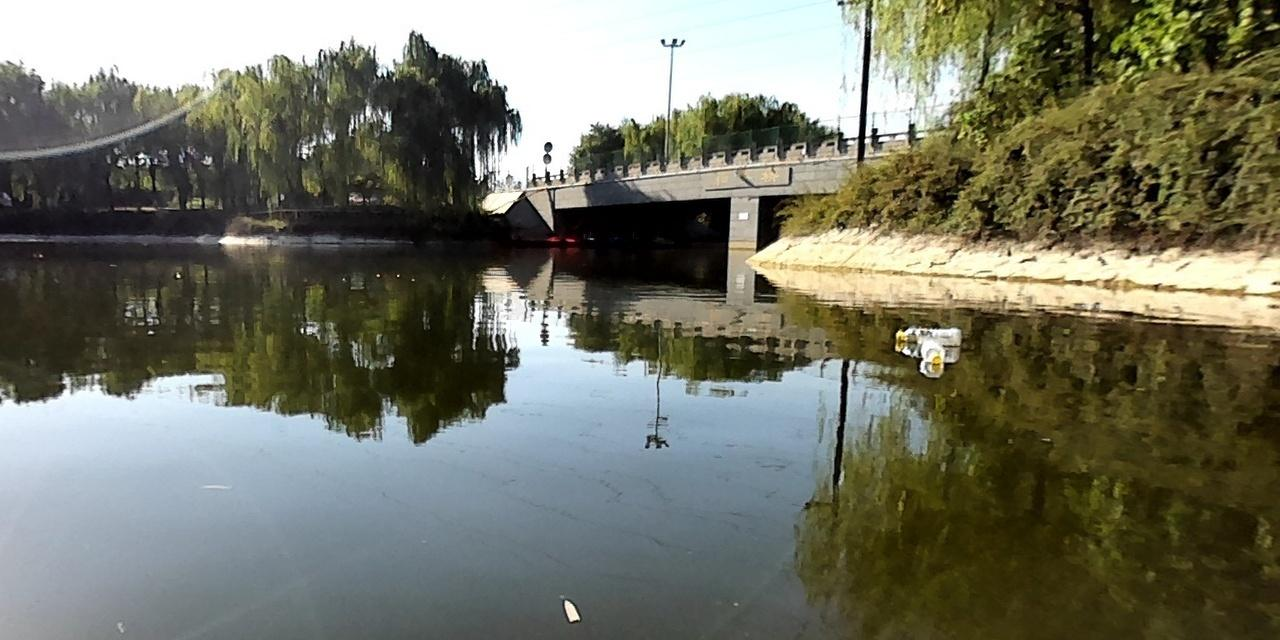bottle: (896, 323, 959, 343), (921, 340, 945, 365)
